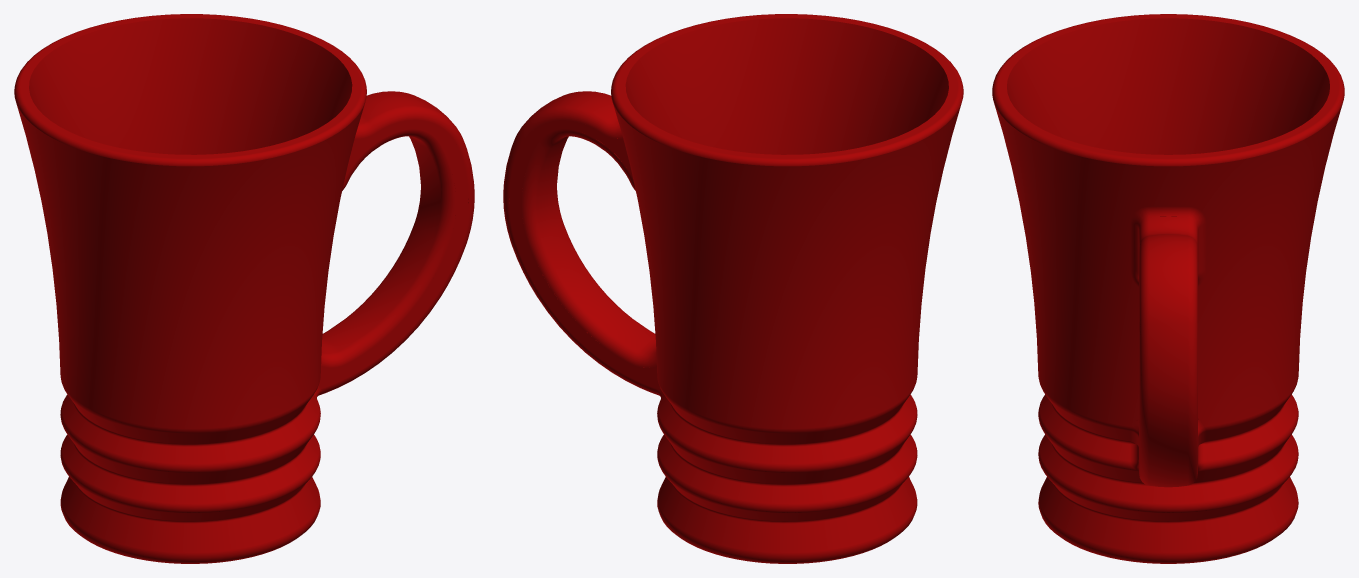
Rendered from CM-MUG026A.glb.
3 renders of one model, left to right at view 1: azimuth 30°, elevation 25°; view 2: azimuth 150°, elevation 25°; view 3: azimuth 270°, elevation 25°, orthographic.
Size of the model in its own units: 0.084 by 0.08 by 0.06.
